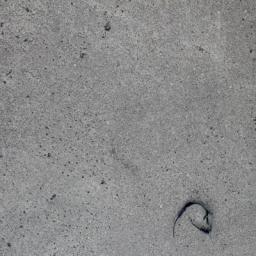FOD: (169, 196, 221, 242)
